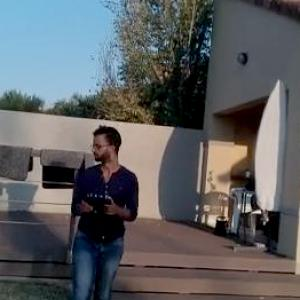follow: (63, 118, 142, 299)
